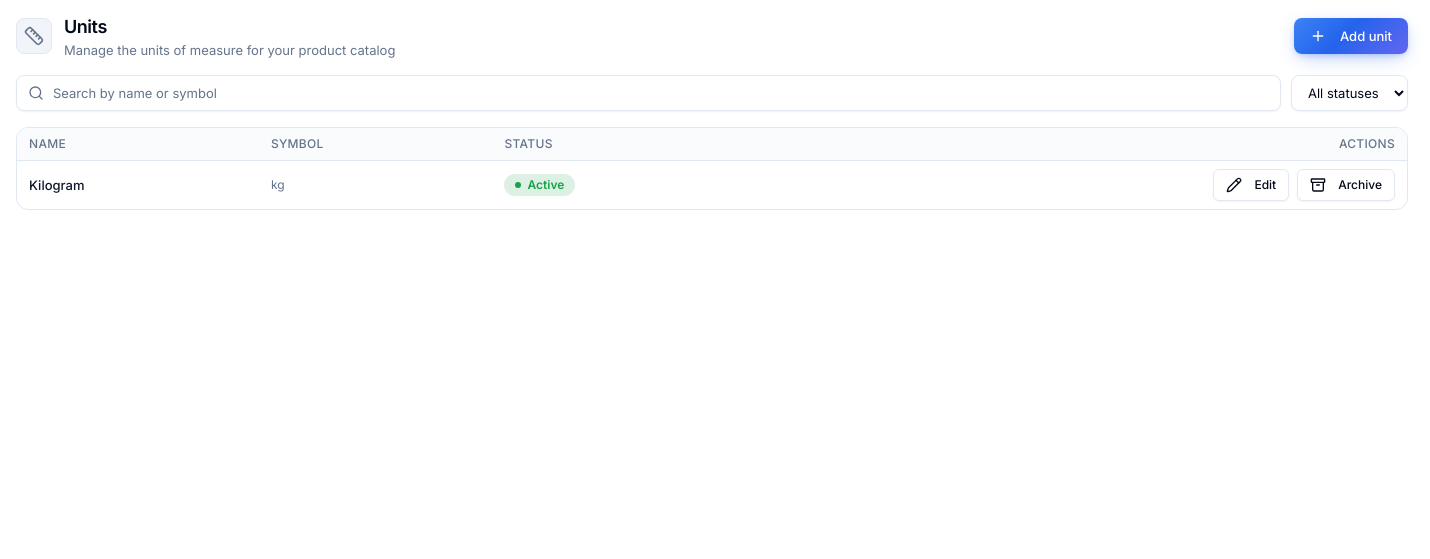
Test case: UnitsView › opens the inline edit form when edit is clicked
Click the button "Edit": [1251, 185] box [1213,169,1289,201]
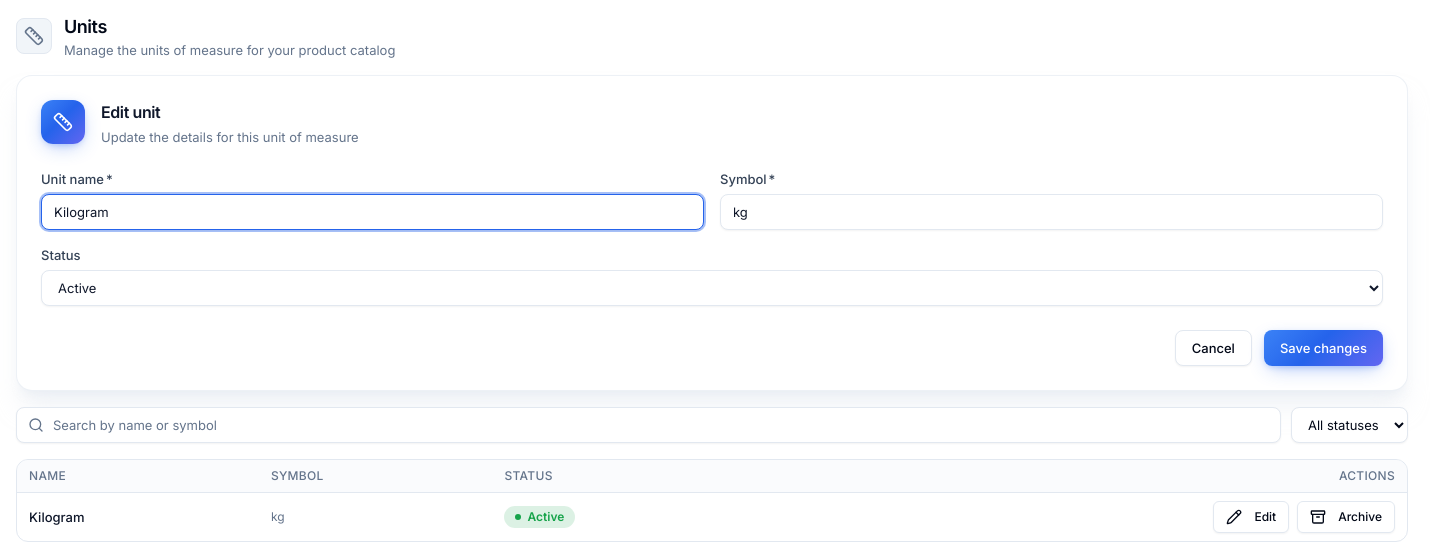
Result: the heading "Edit unit" is shown at [101,102,160,122]
